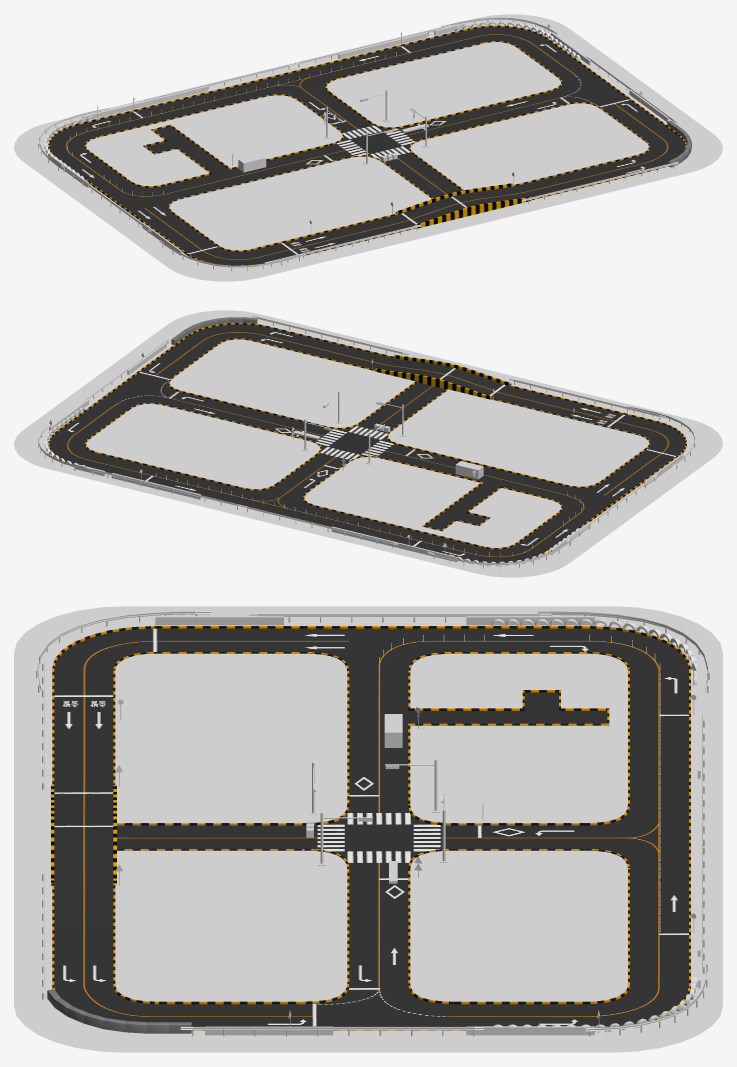
3 views of the same model, one above another, from view 1: azimuth 30°, elevation 25°; view 2: azimuth 150°, elevation 25°; view 3: azimuth 270°, elevation 25° (orthographic). The views are drawn at different scales.
Visible parts, largest first — view 1: GRASS, dfdf, BIGGRASS, curve001, Object009; view 2: GRASS, dfdf, BIGGRASS, curve001, Object009, Line004, Line002, Line003; view 3: GRASS, dfdf, BIGGRASS, curve001, Line004, Line009, Line005, Object009, Line011, Line010.
Boxes of the visible parts, x1,y1,x2,y2 form: GRASS: (86, 42, 648, 250); dfdf: (49, 27, 685, 265); BIGGRASS: (14, 14, 722, 281); curve001: (48, 25, 686, 267); Object009: (395, 183, 531, 228); GRASS: (86, 339, 648, 547); dfdf: (49, 324, 685, 563); BIGGRASS: (14, 310, 722, 577); curve001: (48, 323, 686, 563); Object009: (375, 355, 511, 399); Line004: (171, 317, 257, 344); Line002: (509, 378, 665, 418); Line003: (252, 315, 408, 355); GRASS: (115, 653, 627, 1001); dfdf: (54, 628, 688, 1026); BIGGRASS: (14, 606, 722, 1052); curve001: (52, 626, 690, 1030); Line004: (47, 989, 191, 1033); Line009: (249, 613, 551, 617); Line005: (180, 1026, 483, 1029); Object009: (51, 785, 116, 885); Line011: (37, 610, 210, 691); Line010: (538, 611, 708, 693).
Size of the model in its own units: 1111 by 65.52 by 746.
